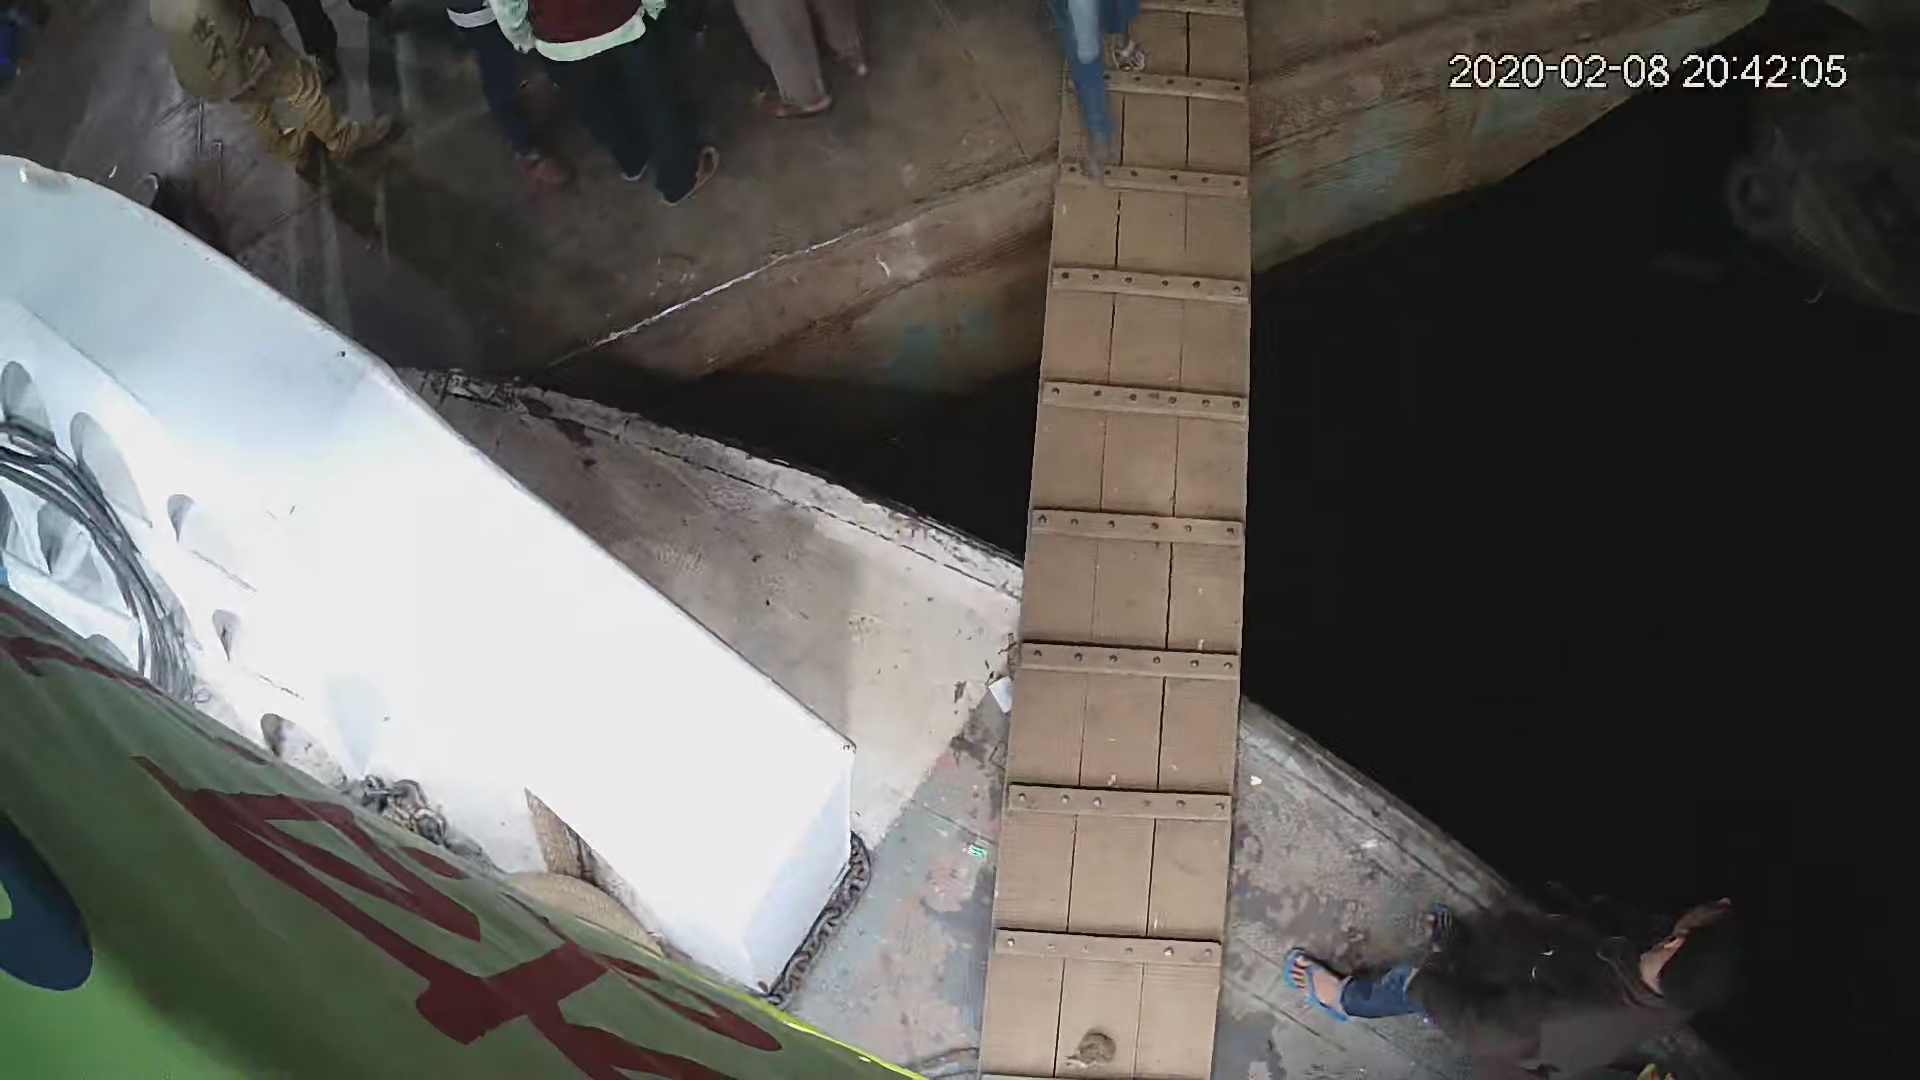person: (1290, 874, 1773, 1076)
